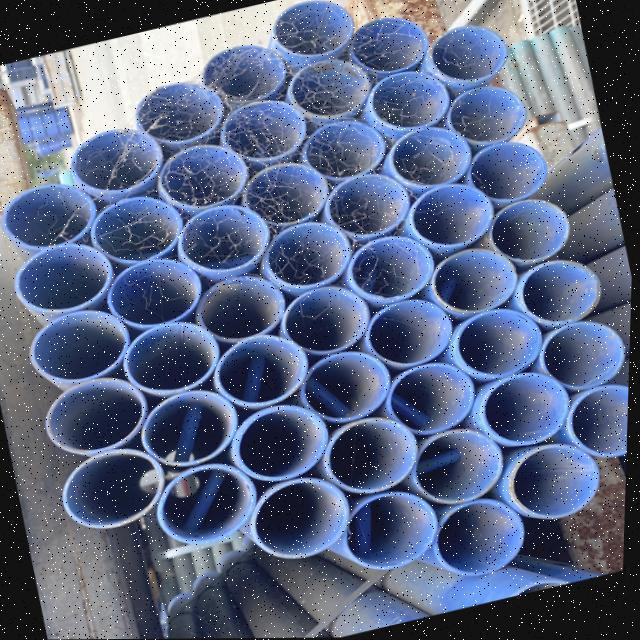pipe: (64, 443, 165, 528), (48, 372, 150, 455), (254, 473, 352, 559), (33, 303, 132, 387), (162, 463, 264, 543), (17, 243, 118, 321), (351, 489, 447, 570), (393, 347, 479, 437), (7, 171, 102, 252), (127, 320, 225, 395), (329, 417, 422, 496), (111, 257, 207, 333), (239, 403, 331, 482), (147, 391, 241, 467), (440, 496, 531, 574), (308, 346, 396, 424), (421, 428, 510, 505), (220, 331, 313, 404), (244, 166, 337, 239), (483, 370, 573, 445), (180, 202, 271, 276), (514, 441, 601, 517), (73, 124, 168, 193), (201, 273, 291, 344), (270, 217, 354, 293), (355, 231, 442, 302), (159, 142, 251, 209), (288, 285, 376, 355), (371, 298, 461, 366), (94, 197, 182, 266), (460, 306, 545, 377), (549, 321, 631, 393), (436, 248, 523, 314), (138, 79, 229, 142), (410, 183, 497, 248), (332, 169, 415, 237), (292, 53, 376, 119), (224, 98, 310, 161), (524, 259, 606, 325), (204, 44, 289, 107), (391, 127, 477, 189), (368, 70, 452, 132), (494, 200, 574, 265), (307, 117, 389, 180), (470, 143, 553, 202), (274, 0, 359, 57), (448, 84, 530, 143), (348, 18, 431, 76), (571, 385, 631, 459), (431, 26, 510, 81)
